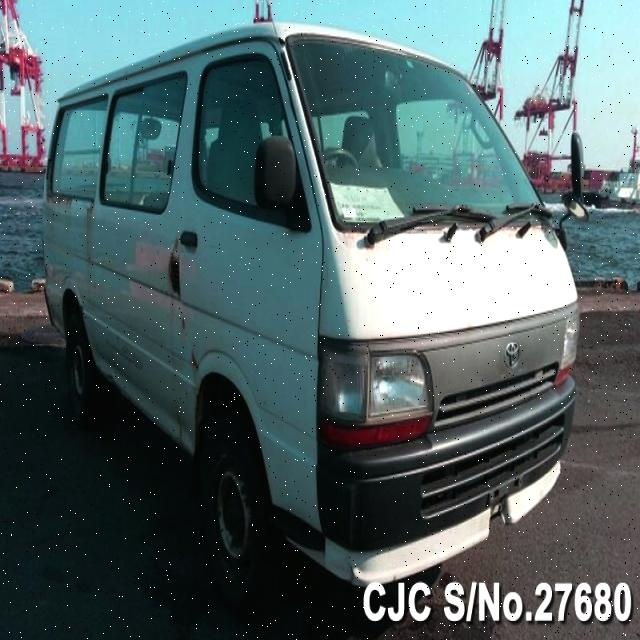Van: (42, 19, 582, 573)
